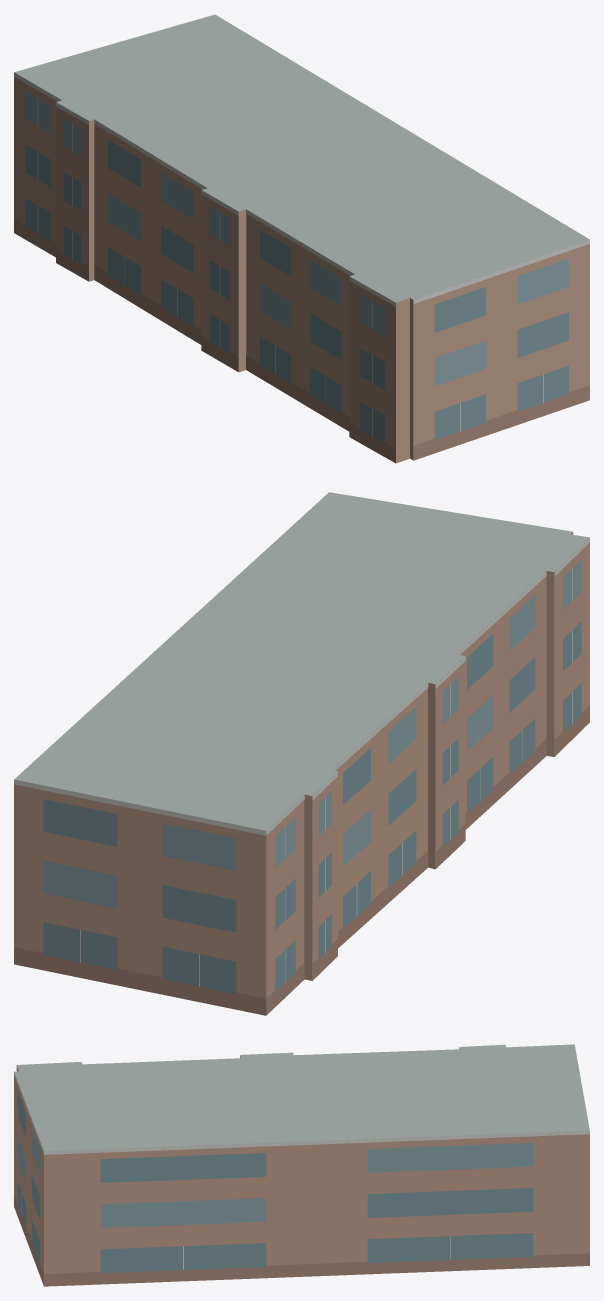
File: survey-upis-32963177.glb
3 renders of one model, top to bottom at view 1: azimuth 30°, elevation 25°; view 2: azimuth 150°, elevation 25°; view 3: azimuth 270°, elevation 25°, orthographic. The views are drawn at different scales.
Visible parts, largest first — view 1: survey-upis-32963177.tmp; view 2: survey-upis-32963177.tmp; view 3: survey-upis-32963177.tmp.
Part boxes in pixels (bbox=[...]): survey-upis-32963177.tmp: bbox=[14, 14, 589, 463]; survey-upis-32963177.tmp: bbox=[14, 492, 589, 1015]; survey-upis-32963177.tmp: bbox=[14, 1044, 589, 1286].
Bounding box in the file's own units: 15.53 × 9.15 × 35.31.
